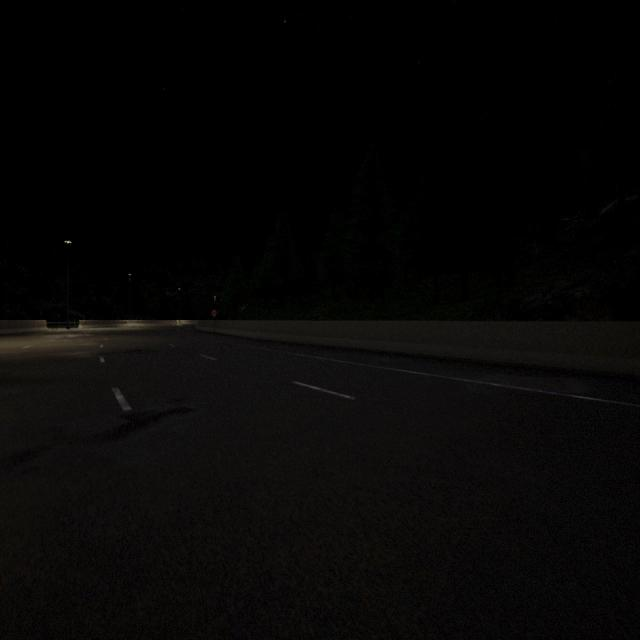Traffic_Signs: (212, 309, 216, 317)
